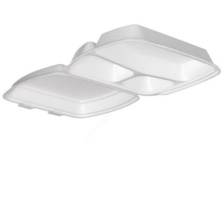foam_box: (0, 19, 224, 123)
